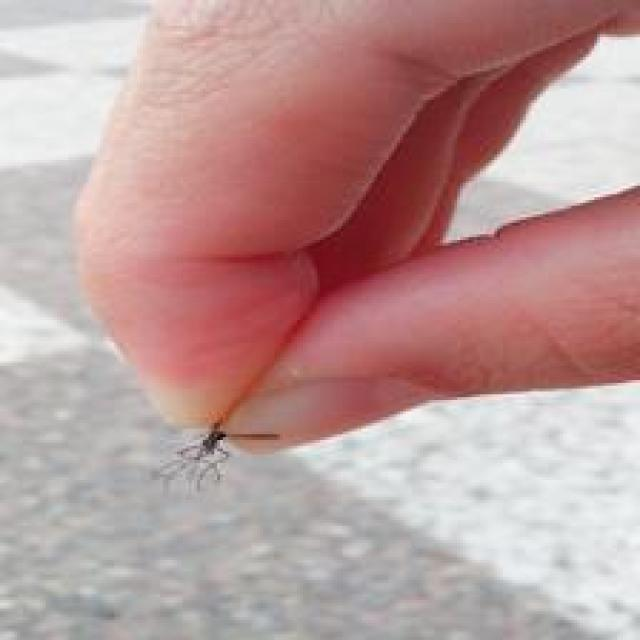Aedes albopictus: (151, 417, 280, 492)
